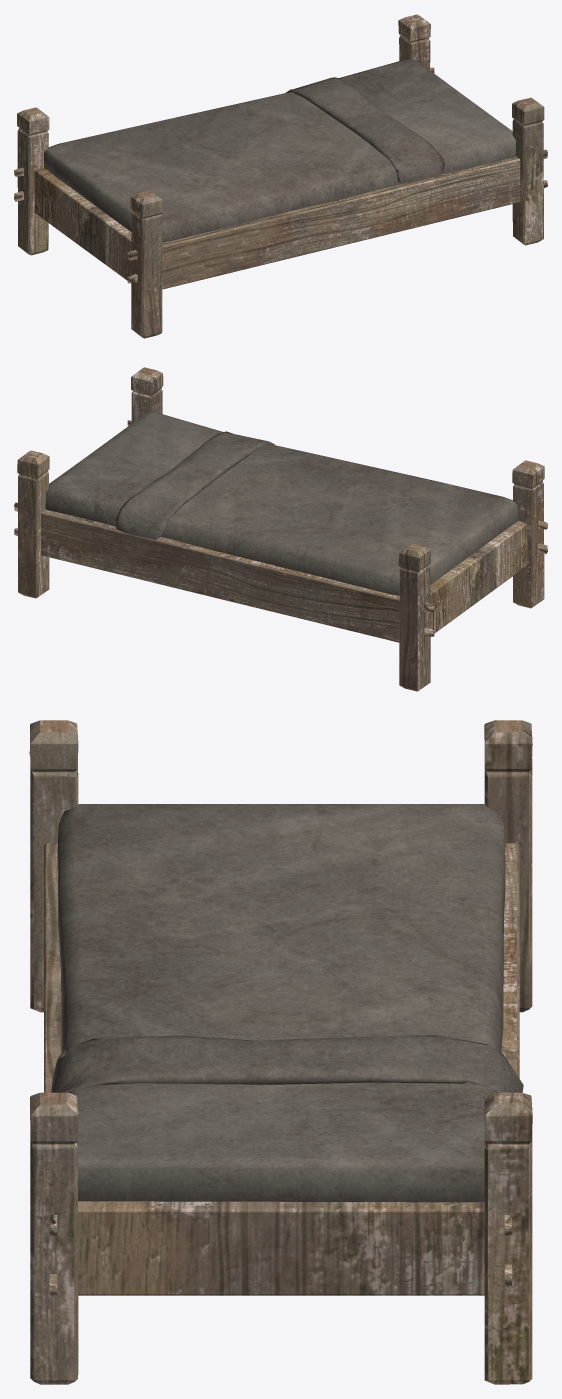
Rendered from SM_Bed.fbx.
3 views of the same model, one above another, from view 1: azimuth 30°, elevation 25°; view 2: azimuth 150°, elevation 25°; view 3: azimuth 270°, elevation 25° (orthographic). The views are drawn at different scales.
Parts seen in each view (by area): view 1: SM_Bed_LOD0; view 2: SM_Bed_LOD0; view 3: SM_Bed_LOD0.
Part boxes in pixels (x1=…): SM_Bed_LOD0: x1=14, y1=14, x2=547, y2=338; SM_Bed_LOD0: x1=14, y1=367, x2=547, y2=691; SM_Bed_LOD0: x1=29, y1=720, x2=532, y2=1384.
Bounding box in the file's own units: 282 × 147 × 89.96.
